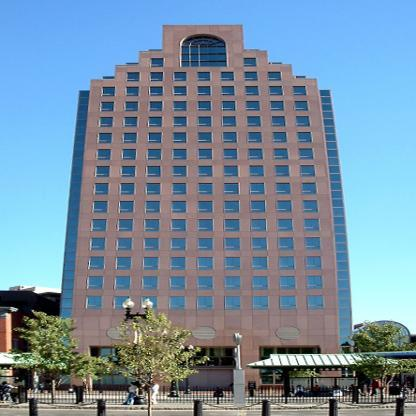Building Outline: (57, 25, 354, 394)
Dont: (3, 297, 416, 403)
Door: (172, 367, 237, 391)
Facade: (91, 80, 318, 394)
Floor: (73, 294, 338, 317), (73, 274, 338, 291), (76, 236, 335, 253), (75, 256, 336, 271), (78, 218, 334, 233), (79, 200, 333, 215), (81, 182, 332, 197), (82, 164, 330, 179), (83, 148, 328, 162), (84, 131, 326, 145), (86, 115, 324, 128), (87, 100, 322, 112), (89, 86, 320, 97), (116, 71, 293, 83)
Floor Slab: (71, 317, 338, 320), (73, 291, 338, 294), (75, 271, 336, 274), (76, 253, 335, 256), (78, 233, 334, 236), (79, 215, 333, 218), (81, 197, 332, 200), (81, 179, 330, 182), (83, 162, 328, 165), (84, 145, 326, 148), (86, 128, 324, 131), (87, 113, 322, 116), (89, 97, 320, 100), (91, 83, 318, 86), (116, 68, 293, 71)
Glass Wall: (260, 348, 320, 384), (91, 367, 150, 391), (172, 348, 237, 367), (91, 348, 150, 367)
Ground Floor: (71, 319, 338, 394)
Top Floor: (139, 51, 268, 68)
Window: (182, 36, 227, 67), (307, 296, 323, 309), (86, 296, 102, 309), (114, 296, 130, 309), (142, 296, 158, 309), (170, 296, 186, 309), (197, 296, 213, 309), (225, 296, 241, 309), (252, 296, 268, 309), (279, 296, 295, 309), (307, 276, 323, 289), (86, 276, 102, 289), (114, 276, 130, 289), (142, 276, 158, 289), (170, 276, 186, 289), (197, 276, 213, 289), (225, 276, 241, 289), (252, 276, 268, 289), (279, 276, 295, 289), (91, 219, 106, 232), (278, 219, 293, 232), (251, 219, 266, 232), (225, 219, 240, 232), (198, 219, 213, 232), (171, 219, 186, 232), (144, 219, 159, 232), (89, 257, 104, 270), (279, 257, 294, 270), (252, 257, 267, 270), (225, 257, 240, 270), (198, 257, 213, 270), (171, 257, 186, 270), (144, 257, 159, 270), (306, 257, 322, 269), (305, 219, 319, 232), (118, 219, 132, 232), (117, 257, 131, 270), (89, 238, 104, 250), (279, 238, 294, 250), (251, 238, 266, 250), (225, 238, 240, 250), (198, 238, 213, 250), (171, 238, 186, 250), (144, 238, 159, 250), (306, 238, 320, 250), (117, 238, 131, 250), (225, 201, 239, 213), (304, 201, 317, 213), (94, 201, 107, 213), (120, 201, 133, 213), (146, 201, 159, 213), (173, 201, 186, 213), (199, 201, 212, 213), (251, 201, 264, 213), (278, 201, 291, 213), (173, 184, 187, 195), (199, 184, 213, 195), (302, 184, 315, 195), (301, 166, 314, 177), (299, 149, 312, 160), (95, 184, 108, 195), (97, 166, 110, 177), (98, 150, 111, 161), (100, 133, 113, 144), (121, 184, 134, 195), (123, 166, 136, 177), (123, 150, 136, 161), (126, 133, 139, 144), (147, 184, 160, 195), (147, 166, 160, 177), (148, 150, 161, 161), (149, 133, 162, 144), (174, 166, 187, 177), (174, 150, 187, 161), (174, 133, 187, 144), (199, 166, 212, 177), (199, 150, 212, 161), (225, 184, 238, 195), (224, 166, 237, 177), (223, 149, 236, 160), (250, 183, 263, 194), (250, 166, 263, 177), (249, 149, 262, 160), (277, 184, 290, 195), (276, 166, 289, 177), (275, 149, 288, 160), (200, 133, 212, 144), (296, 116, 309, 126), (100, 116, 113, 126), (126, 116, 139, 126), (149, 116, 162, 126), (174, 116, 187, 126), (198, 116, 211, 126), (222, 116, 235, 126), (248, 116, 261, 126), (272, 116, 285, 126), (295, 101, 308, 111), (270, 101, 283, 111), (298, 133, 311, 143), (223, 133, 236, 143), (249, 133, 262, 143), (273, 133, 286, 143), (293, 87, 306, 96), (102, 87, 115, 96), (126, 87, 139, 96), (149, 87, 162, 96), (174, 87, 187, 96), (198, 87, 211, 96), (222, 87, 235, 96), (246, 87, 259, 96), (269, 87, 282, 96), (101, 102, 114, 111), (126, 102, 139, 111), (149, 102, 162, 111), (174, 102, 187, 111), (198, 102, 211, 111), (222, 102, 235, 111), (247, 102, 260, 111), (152, 59, 164, 68), (128, 73, 140, 82), (151, 72, 163, 81), (175, 72, 187, 81), (198, 72, 210, 81), (222, 72, 234, 81), (246, 72, 258, 81), (269, 72, 281, 81), (244, 58, 256, 67)
Window Hole: (180, 34, 228, 67)
